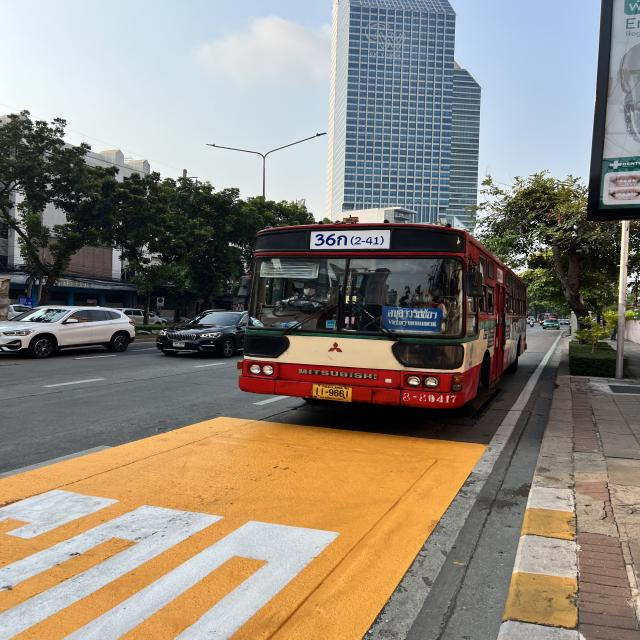BMTA-bus: (236, 222, 528, 414)
Bus-Line-Number: (309, 230, 392, 252)
Destination-Sign-Normal: (382, 306, 443, 337)
